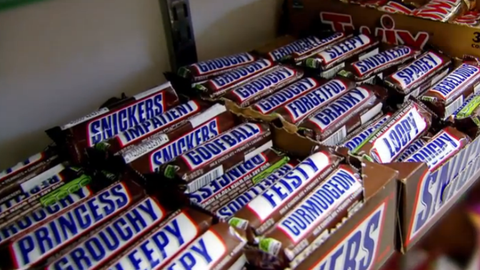snickers: (16, 181, 126, 265), (52, 197, 158, 269), (52, 199, 158, 269), (52, 197, 154, 269), (412, 137, 478, 231), (89, 92, 161, 145), (111, 216, 182, 269), (318, 208, 379, 269), (92, 92, 161, 145), (111, 219, 184, 269), (151, 119, 216, 169), (355, 46, 408, 73)
